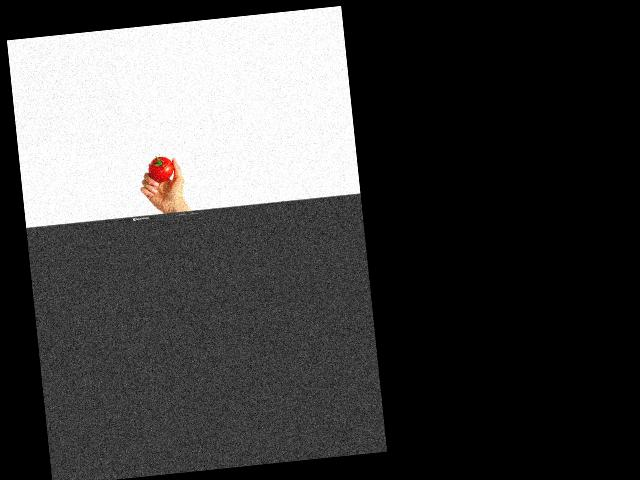tomato: (148, 155, 175, 183)
